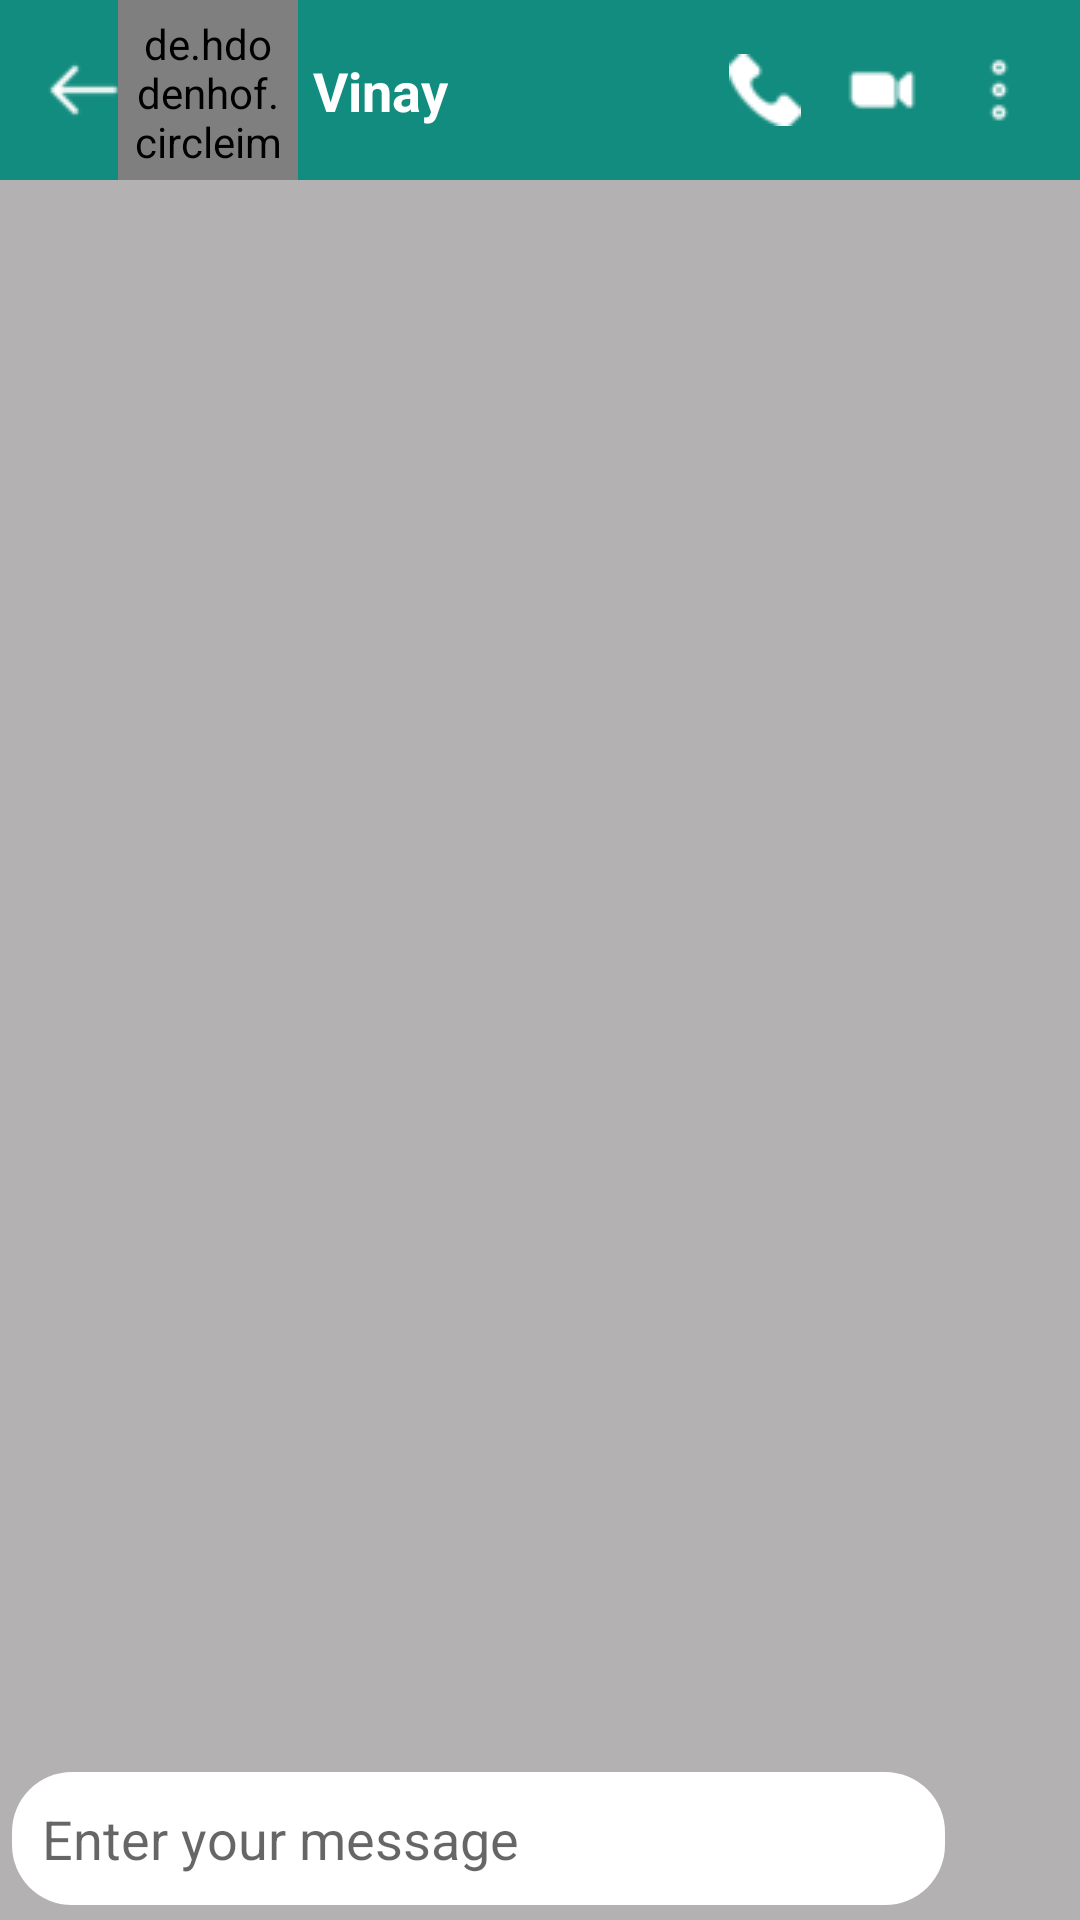

Icons on this 1080x1920 Android screen, each with its box as (x1, y1, x2, y2):
backarrow: (50, 54, 120, 126)
dots: (990, 59, 1008, 121)
phonecall: (729, 54, 801, 126)
videocall: (849, 71, 915, 109)
